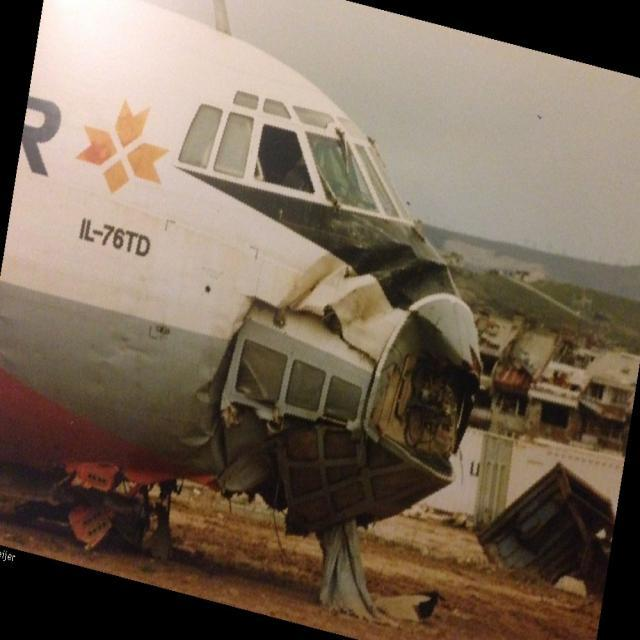dent: (181, 427, 216, 447), (199, 389, 211, 402)
